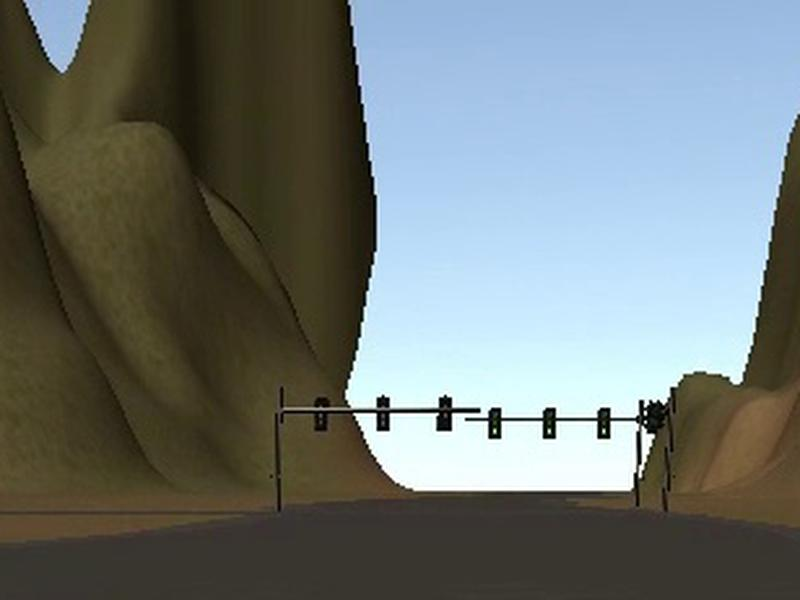Green: (486, 406, 502, 439), (542, 408, 557, 438), (598, 408, 612, 439)
